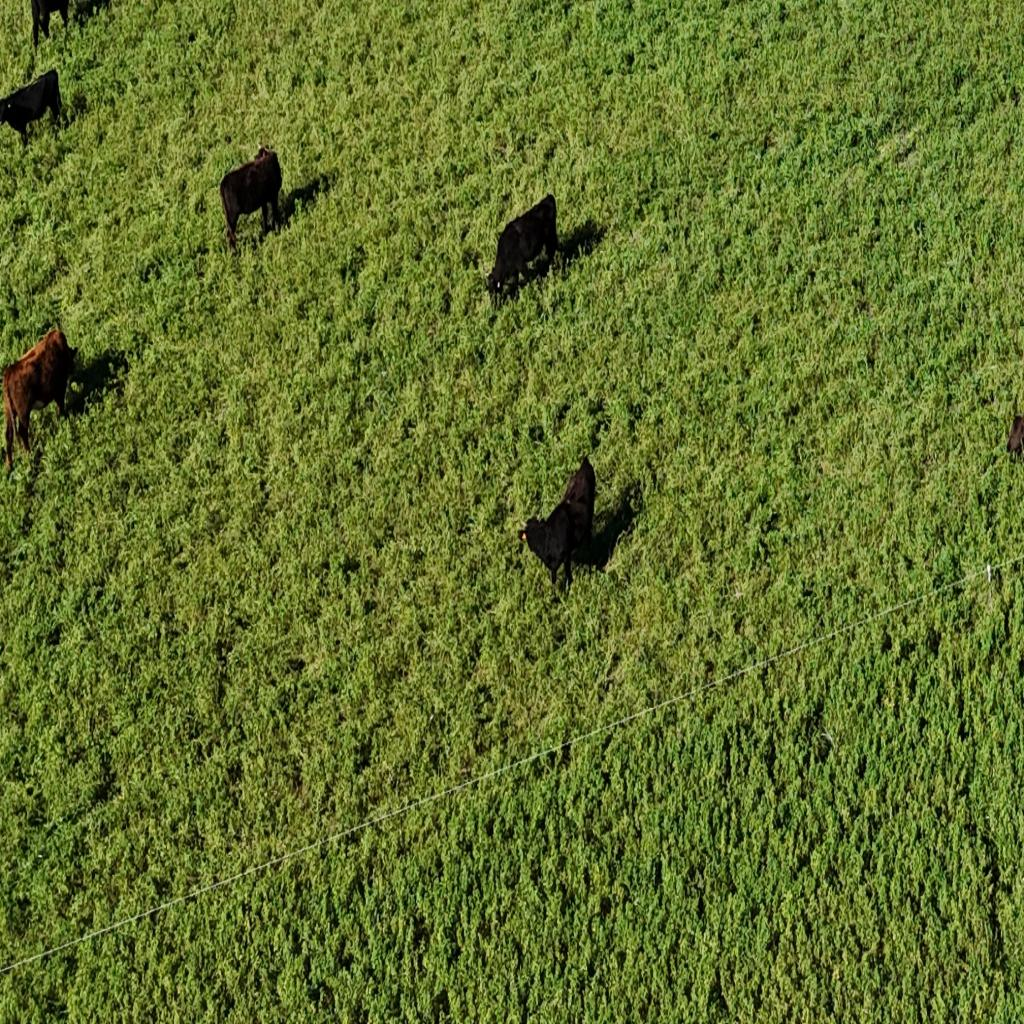cow: (1, 326, 76, 476), (520, 457, 598, 595), (484, 196, 558, 299), (220, 144, 284, 252), (0, 71, 62, 150), (30, 0, 72, 52), (1005, 412, 1023, 459)
